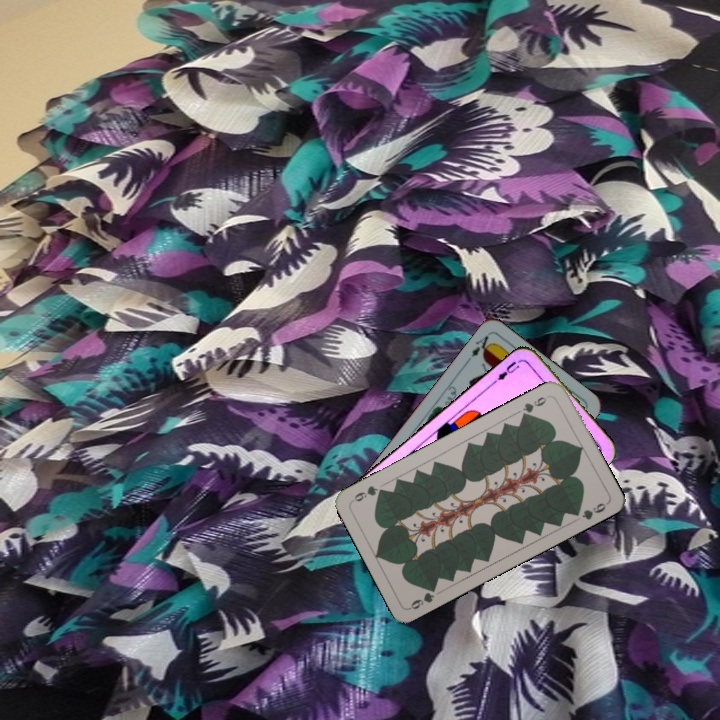EA: (462, 331, 495, 365)
EU: (491, 355, 526, 385)
G9: (406, 581, 439, 612), (518, 391, 553, 420)
